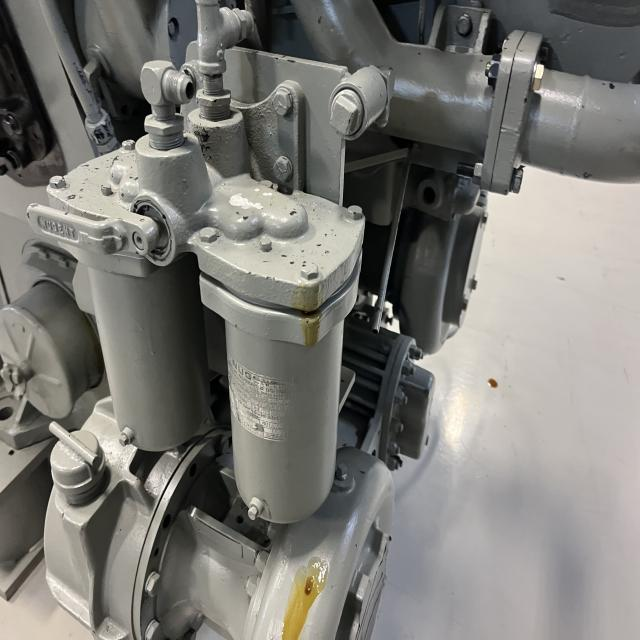Oil Leak: (269, 551, 334, 640), (300, 310, 321, 346), (289, 600, 300, 612), (313, 576, 319, 584)
